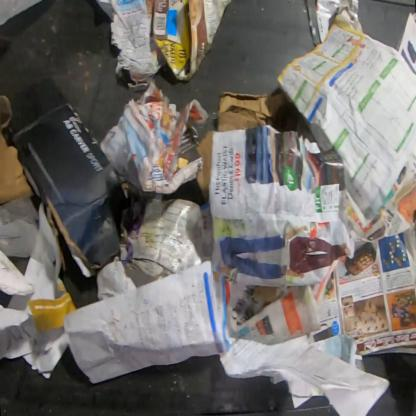cardboard: (2, 74, 146, 280), (149, 0, 233, 83), (0, 95, 36, 205), (216, 91, 298, 133), (195, 129, 213, 204)
soft_plastic: (0, 197, 63, 285)
